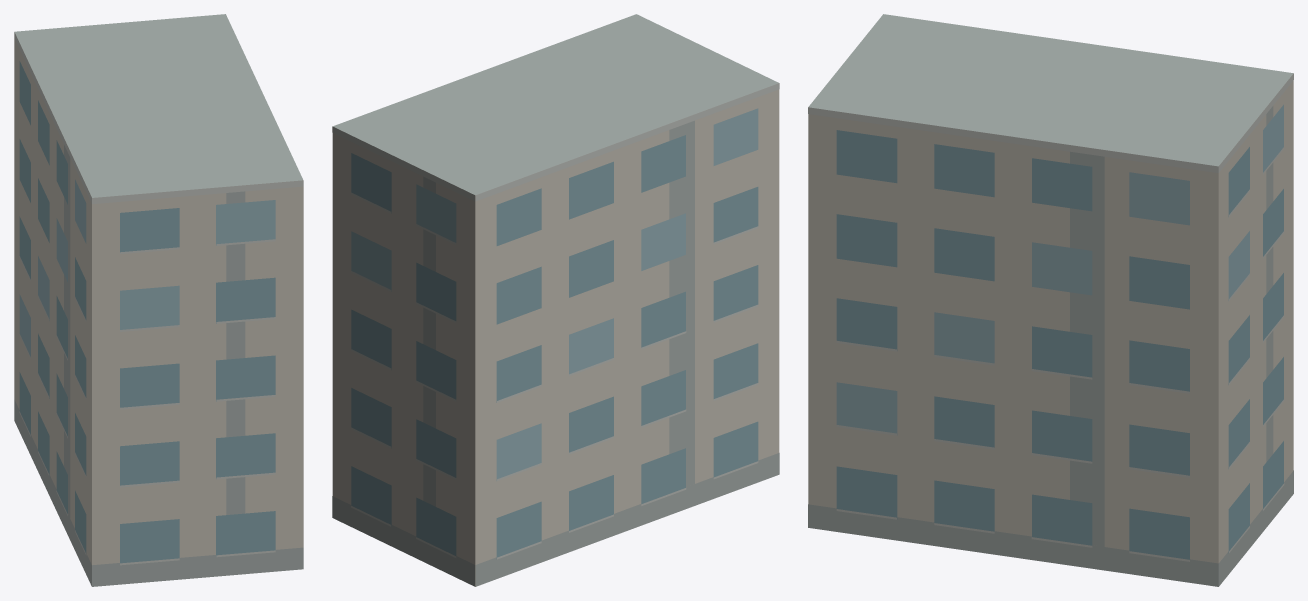
Rendered from residential-0dcd593d-155a-48d8-8907-69cfe1050491.glb.
3 views of the same model, side by side, from view 1: azimuth 30°, elevation 25°; view 2: azimuth 150°, elevation 25°; view 3: azimuth 270°, elevation 25° (orthographic). The views are drawn at different scales.
Parts seen in each view (by area): view 1: residential-0dcd593d-155a-48d8-8907-69cfe1050491.tmp; view 2: residential-0dcd593d-155a-48d8-8907-69cfe1050491.tmp; view 3: residential-0dcd593d-155a-48d8-8907-69cfe1050491.tmp.
Boxes of the visible parts, box(x1,y1,x2,y2) form: residential-0dcd593d-155a-48d8-8907-69cfe1050491.tmp: box(14, 14, 303, 586); residential-0dcd593d-155a-48d8-8907-69cfe1050491.tmp: box(332, 14, 779, 586); residential-0dcd593d-155a-48d8-8907-69cfe1050491.tmp: box(808, 14, 1293, 586).
Size of the model in its own units: 11.86 by 15.25 by 15.97.
